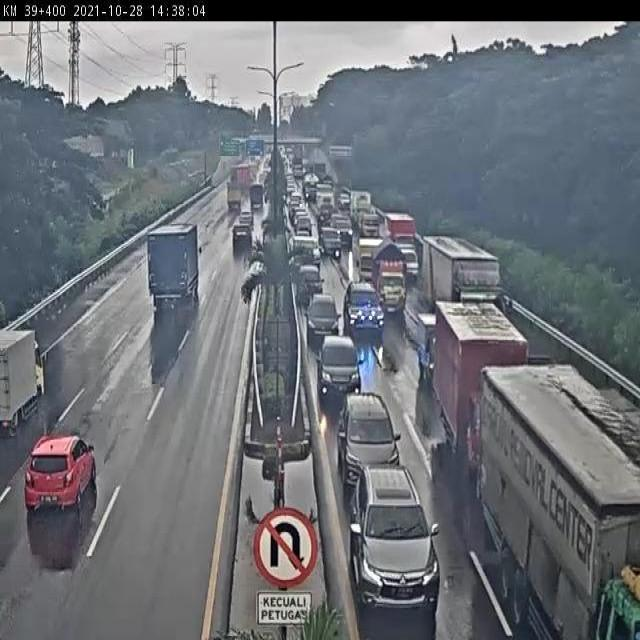big truck: (463, 357, 640, 640), (427, 294, 529, 486), (418, 225, 508, 315), (133, 223, 205, 329)
car: (345, 451, 442, 600), (23, 420, 104, 532), (332, 389, 405, 483), (312, 327, 364, 404), (333, 272, 381, 337), (301, 289, 345, 355), (411, 312, 442, 397), (392, 237, 422, 280), (297, 264, 323, 309), (226, 216, 254, 255), (232, 212, 260, 235)
small truck: (0, 325, 58, 424), (368, 237, 411, 316), (218, 179, 244, 216), (246, 181, 265, 215)
